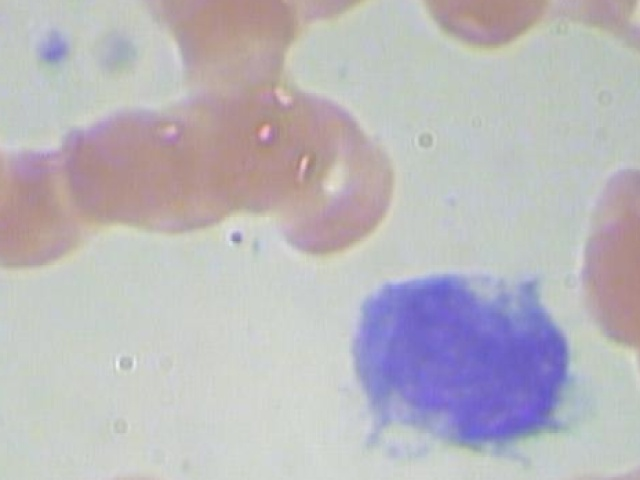Platelets: (25, 17, 76, 70)
RBC: (120, 90, 286, 241), (56, 83, 223, 233), (259, 113, 425, 263), (207, 68, 373, 218), (0, 116, 163, 266), (0, 127, 111, 277), (145, 0, 311, 88), (574, 157, 640, 342), (392, 0, 558, 50), (248, 0, 414, 50), (52, 462, 220, 480), (0, 93, 16, 243), (0, 277, 5, 427)
WBC: (336, 260, 588, 469)
